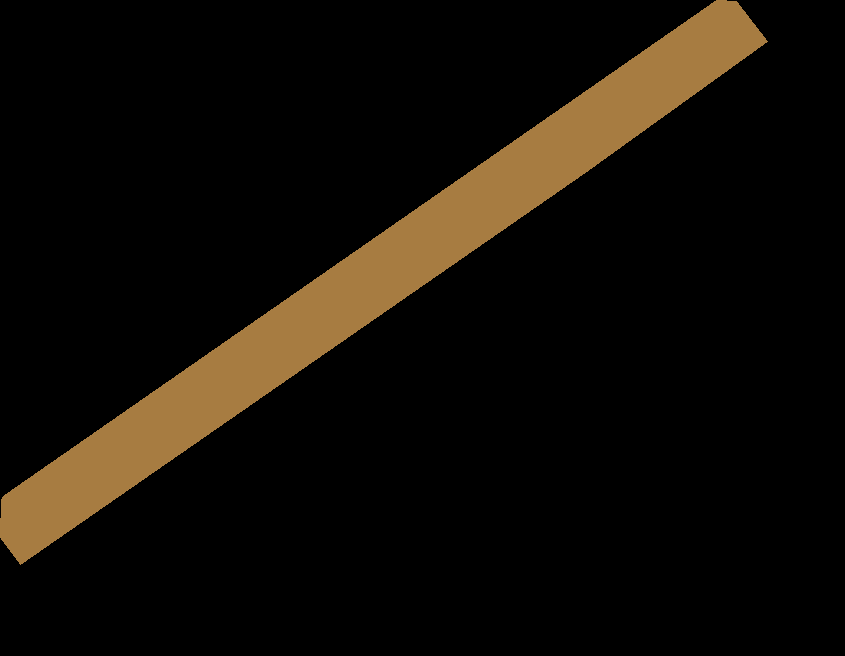parkingspot: (0, 0, 767, 564)
